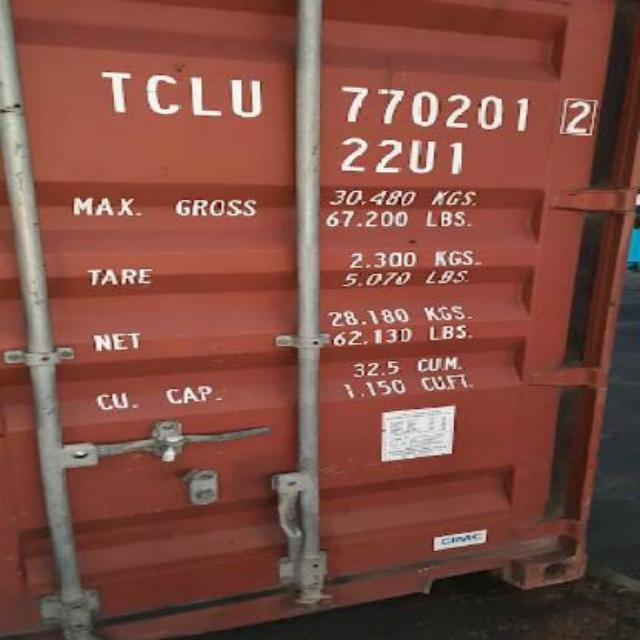0: (410, 89, 442, 127), (478, 94, 504, 130)
1: (508, 93, 536, 133)
2: (446, 90, 474, 128), (564, 100, 592, 134)
7: (370, 84, 406, 126), (336, 83, 372, 123)
C: (138, 67, 184, 117)
L: (184, 74, 228, 118)
T: (96, 69, 140, 119)
U: (226, 75, 272, 118)
